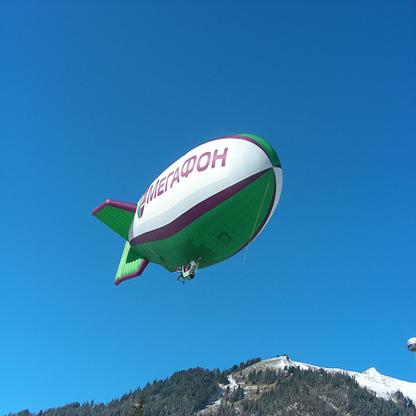Airship: (80, 133, 289, 296)
